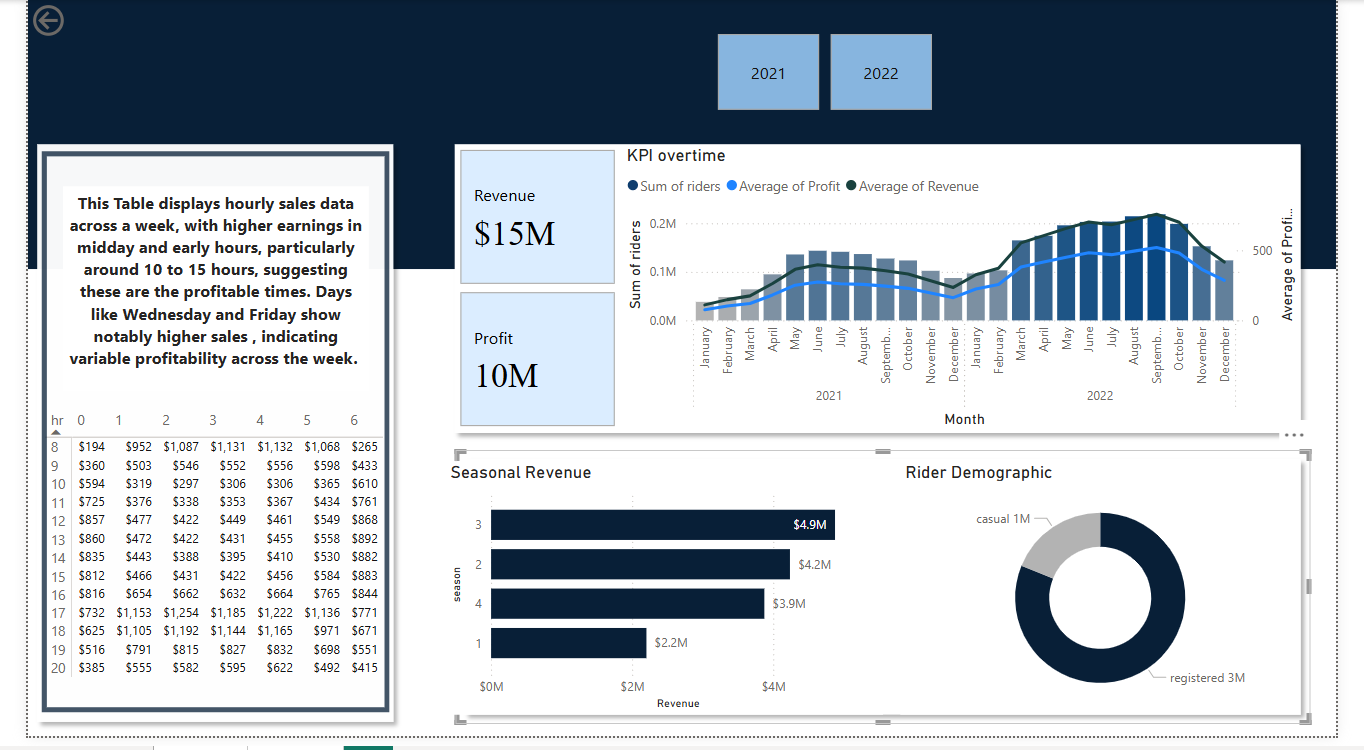

The dashboard page shown, as its layout file describes it:
{"tool":"powerbi","page":{"name":"Page 1","canvas":[1280,720],"ordinal":0},"visuals":[{"type":"shape","box":[0,0,1280.3,263.5],"z":0},{"type":"shape","box":[0,131.7,366.4,583.2],"z":1000},{"type":"shape","box":[408.9,131.7,845.3,300.5],"z":2000},{"type":"shape","box":[418.5,440.5,835.7,267.6],"z":3000},{"type":"lineClusteredColumnComboChart","title":"KPI overtime","fields":{"Category":["Query1.dteday.Variation.Date Hierarchy.Year","Query1.dteday.Variation.Date Hierarchy.Month","Query1.dteday.Variation.Date Hierarchy.Day"],"Y":["Sum(Query1.riders)"],"Y2":["Avg(Query1.Profit)","Avg(Query1.Revenue)"]},"box":[580.4,141.3,664.2,281.3],"z":4000},{"type":"clusteredBarChart","title":"Seasonal Revenue","fields":{"Category":["Query1.season"],"Y":["Sum(Query1.Revenue)"]},"box":[408.9,451.5,428.1,248.4],"z":5000},{"type":"donutChart","title":"Rider Demographic","fields":{"Category":["Query1.rider_type"],"Y":["Sum(Query1.riders)"]},"box":[853.5,451.5,391.1,248.4],"z":6000},{"type":"actionButton","box":[0,0,100,40],"z":7000},{"type":"pivotTable","fields":{"Rows":["Query1.hr"],"Values":["Avg(Query1.Revenue)"],"Columns":["Query1.weekday"]},"box":[12.3,396.6,354,289.5],"z":8000},{"type":"textbox","box":[34.3,182.5,299.1,200.3],"z":9000},{"type":"cardVisual","title":"KPI overtime","fields":{"Data":["Sum(Query1.Revenue)","Sum(Query1.Profit)"]},"box":[418.5,141.3,161.9,281.3],"z":10000},{"type":"advancedSlicerVisual","fields":{"Values":["Query1.Year"]},"box":[669.6,8.2,326.6,124.9],"z":11000},{"type":"shape","box":[13,148,340.3,548.9],"z":12000}]}

Visuals, with their boxes in screenshot pixels (x1, y1, x2, y2), scaled from the page's 1280x720 canvas onto the 1364x750 screenshot:
shape: x1=0, y1=0, x2=1363, y2=274
shape: x1=0, y1=137, x2=390, y2=745
shape: x1=436, y1=137, x2=1337, y2=450
shape: x1=446, y1=459, x2=1337, y2=738
"KPI overtime" lineClusteredColumnComboChart: x1=618, y1=147, x2=1326, y2=440
"Seasonal Revenue" clusteredBarChart: x1=436, y1=470, x2=892, y2=729
"Rider Demographic" donutChart: x1=910, y1=470, x2=1326, y2=729
actionButton: x1=0, y1=0, x2=107, y2=42
pivotTable - Query1.hr x Avg(Query1.Revenue): x1=13, y1=413, x2=390, y2=715
textbox: x1=37, y1=190, x2=355, y2=399
"KPI overtime" cardVisual: x1=446, y1=147, x2=618, y2=440
advancedSlicerVisual - Query1.Year: x1=714, y1=9, x2=1062, y2=139
shape: x1=14, y1=154, x2=376, y2=726
